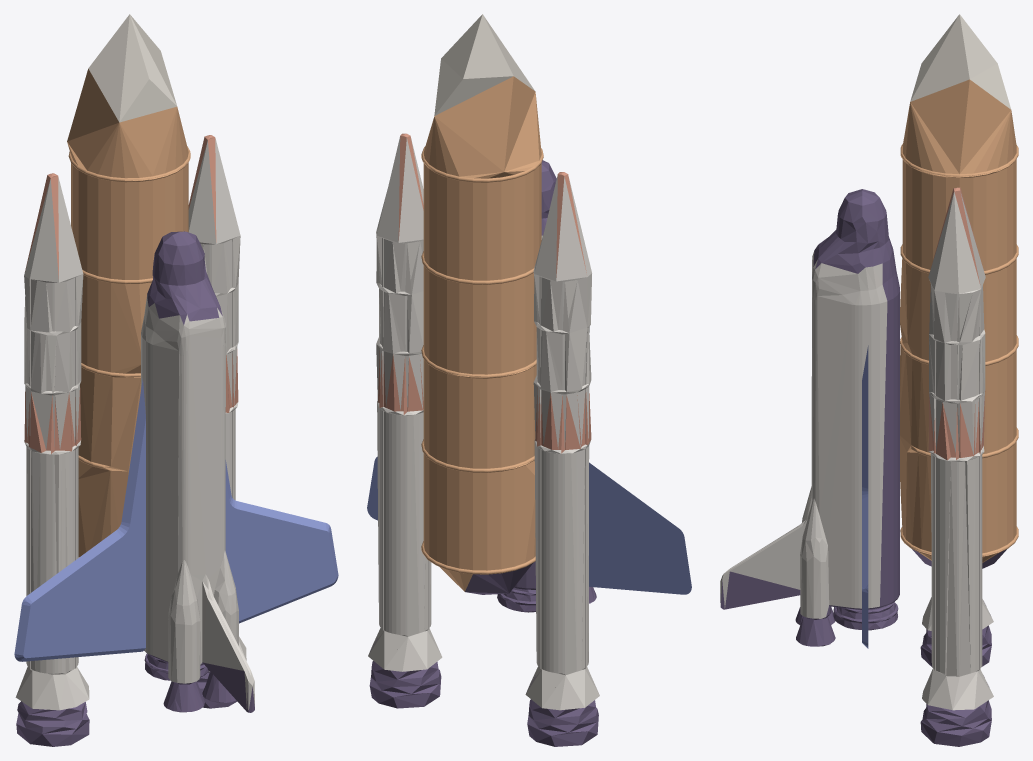
Rendered from rocket.glb.
The picture shows the model from 3 angles, left to right: view 1: azimuth 30°, elevation 25°; view 2: azimuth 150°, elevation 25°; view 3: azimuth 270°, elevation 25°; orthographic projection. The views are drawn at different scales.
Visible parts, largest first — view 1: tank, orbiter, srbL, wingR, wingL, srbR; view 2: tank, srbL, srbR, wingR, orbiter; view 3: orbiter, tank, srbR, wingL, srbL.
Part boxes in pixels (x1=…): tank: x1=67, y1=14, x2=190, y2=557; orbiter: x1=141, y1=231, x2=254, y2=712; srbL: x1=15, y1=173, x2=89, y2=746; wingR: x1=14, y1=378, x2=145, y2=661; wingL: x1=225, y1=460, x2=338, y2=623; srbR: x1=188, y1=135, x2=246, y2=708; tank: x1=421, y1=14, x2=543, y2=594; srbL: x1=525, y1=172, x2=599, y2=746; srbR: x1=368, y1=133, x2=442, y2=708; wingR: x1=589, y1=462, x2=691, y2=594; orbiter: x1=497, y1=160, x2=596, y2=612; orbiter: x1=720, y1=189, x2=899, y2=646; tank: x1=900, y1=14, x2=1018, y2=568; srbR: x1=920, y1=187, x2=993, y2=746; wingL: x1=862, y1=345, x2=868, y2=648; srbL: x1=920, y1=597, x2=993, y2=667.
Bounding box in the file's own units: 6.94 × 14.3 × 5.68.
